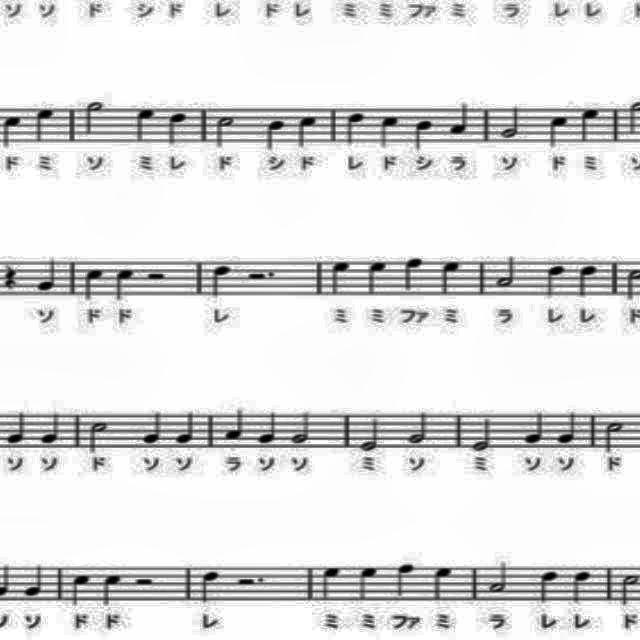Half-note: (402, 408, 438, 450), (469, 410, 498, 454), (210, 112, 238, 156), (497, 100, 523, 144), (79, 100, 107, 140), (484, 555, 512, 595), (289, 406, 313, 448), (601, 415, 627, 453), (494, 250, 518, 290), (86, 417, 110, 455), (360, 419, 384, 456)
Half-rest: (242, 262, 282, 282), (126, 572, 162, 592), (233, 568, 267, 588), (140, 264, 168, 284)
Quarter-note: (32, 251, 64, 297), (18, 554, 46, 606), (132, 100, 160, 150), (252, 399, 280, 448), (172, 404, 200, 452), (206, 259, 236, 303), (520, 404, 550, 448), (552, 409, 584, 449), (401, 253, 432, 294), (328, 256, 356, 300), (437, 258, 465, 302), (575, 260, 603, 304), (196, 564, 224, 608), (30, 104, 60, 144), (541, 114, 571, 154), (219, 399, 245, 445), (78, 262, 105, 306), (534, 564, 562, 606), (38, 408, 66, 448), (446, 99, 474, 138), (354, 561, 380, 603), (0, 407, 28, 445), (166, 106, 190, 150), (318, 564, 342, 608), (569, 564, 593, 608), (140, 408, 166, 448), (431, 560, 454, 604), (112, 264, 136, 306), (365, 258, 389, 300), (296, 113, 322, 151), (264, 114, 288, 154), (544, 262, 568, 302), (101, 569, 125, 609), (392, 562, 416, 602), (378, 115, 402, 154), (576, 105, 600, 144), (344, 109, 368, 147), (412, 119, 438, 153), (1, 112, 23, 152), (68, 572, 92, 608)
Quarter-rest: (0, 260, 22, 294)
